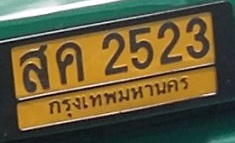txt03: (54, 40, 87, 87)
txt35: (17, 43, 51, 95)
